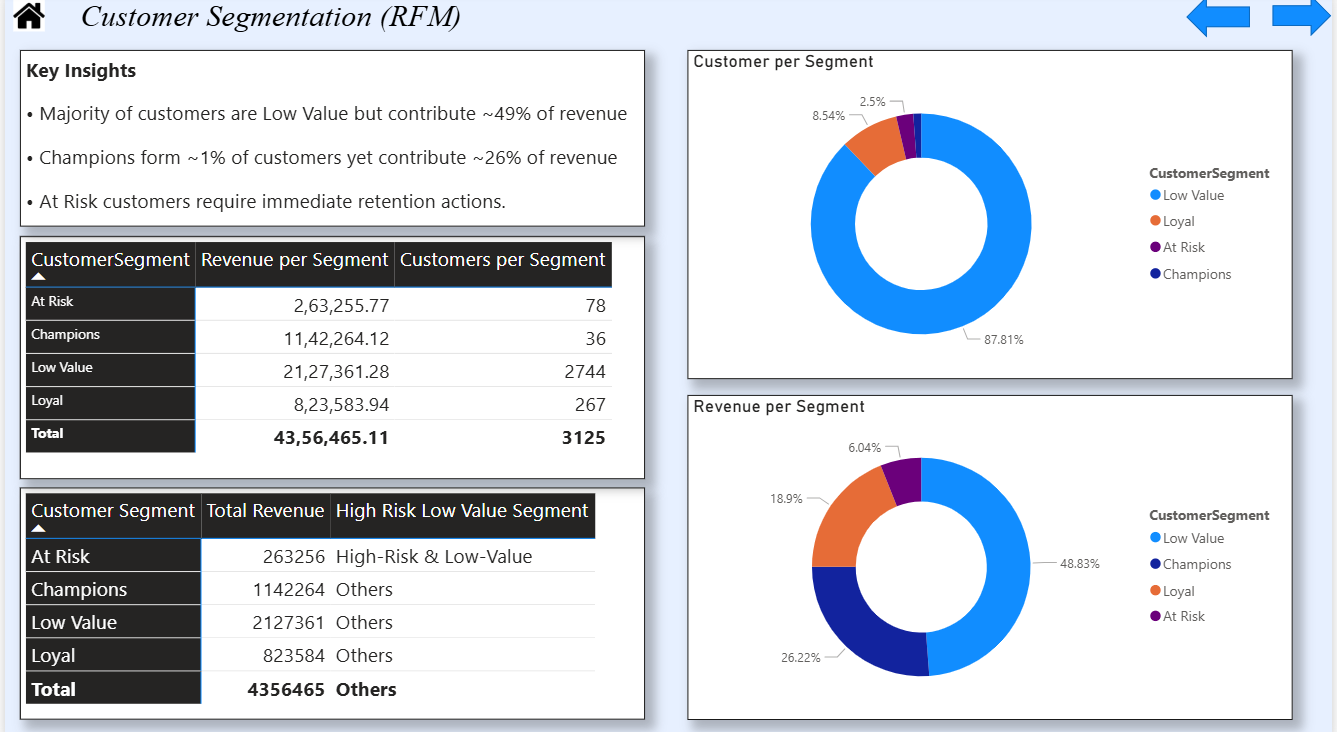

The page's visual inventory and layout, read from the dashboard file:
{"tool":"powerbi","page":{"name":"Customer Segmentation (RFM)","canvas":[1280,720],"ordinal":2},"visuals":[{"type":"pivotTable","fields":{"Values":["Measure.#TotalRevenue","Measure.#HighRiskLowValueSegment"],"Rows":["Dim_Customers.CustomerSegment"]},"box":[14.5,475.3,603.2,224.4],"z":0},{"type":"shape","box":[1223.3,0,56.7,39.8],"z":1000},{"type":"shape","box":[1140.1,1.2,61.5,39.8],"z":2000},{"type":"image","box":[0,0,45.8,39.8],"z":3000},{"type":"shape","box":[45.8,0,422.3,39.8],"z":4000},{"type":"pivotTable","fields":{"Rows":["Dim_Customers.CustomerSegment"],"Values":["Measure.Revenue per Segment","Measure.Customers per Segment"]},"box":[14.5,232.8,603.2,234],"z":5000},{"type":"donutChart","title":"Customer per Segment","fields":{"Y":["Measure.% Customers per Segment"],"Category":["Dim_Customers.CustomerSegment"]},"box":[658.7,53.1,583.9,317.3],"z":6000},{"type":"donutChart","title":"Revenue per Segment","fields":{"Category":["Dim_Customers.CustomerSegment"],"Y":["Measure.% Revenue per Segment"]},"box":[658.7,386.1,583.9,313.7],"z":7000},{"type":"textbox","box":[14.5,53.1,603.2,170.1],"z":8000}]}

Visuals, with their boxes in screenshot pixels (x1, y1, x2, y2), scaled from the page's 1280x720 canvas onto the 1337x732 screenshot:
pivotTable - Measure.#TotalRevenue x Measure.#HighRiskLowValueSegment: 15 483 645 711
shape: 1278 0 1336 40
shape: 1191 1 1255 42
image: 0 0 48 40
shape: 48 0 489 40
pivotTable - Dim_Customers.CustomerSegment x Measure.Revenue per Segment: 15 237 645 475
"Customer per Segment" donutChart: 688 54 1298 377
"Revenue per Segment" donutChart: 688 393 1298 711
textbox: 15 54 645 227
